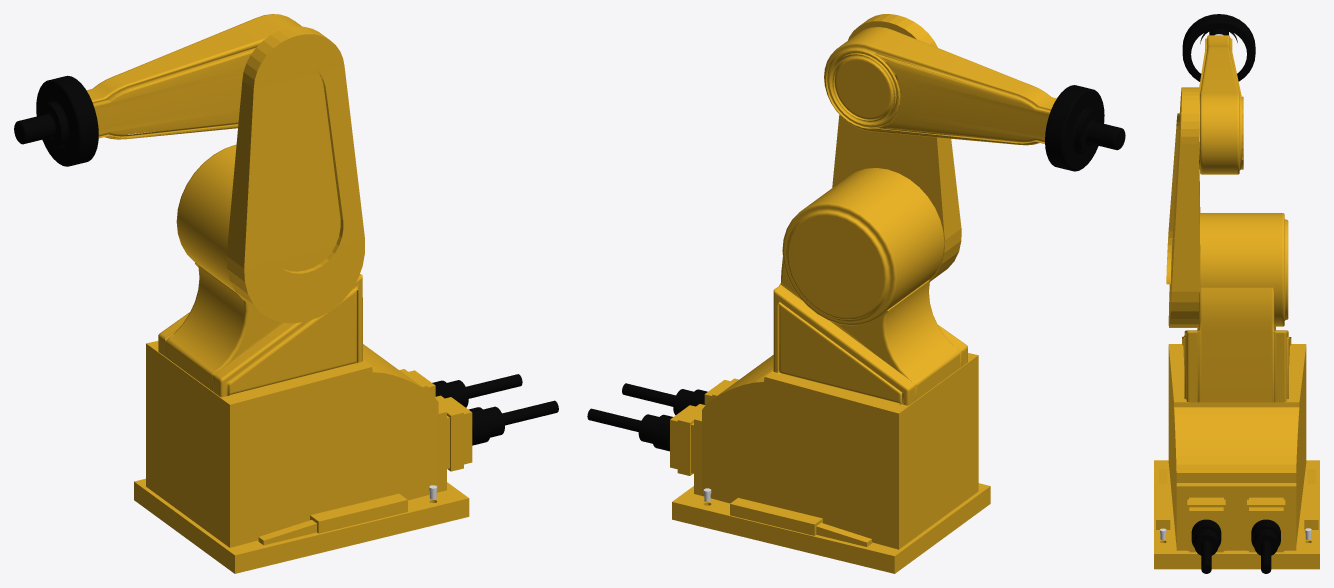
File: arm_v2.gltf
3 views of the same model, side by side, from view 1: azimuth 30°, elevation 25°; view 2: azimuth 150°, elevation 25°; view 3: azimuth 270°, elevation 25° (orthographic). The views are drawn at different scales.
Parts seen in each view (by area): view 1: base, Cube.001, base2, Untitled.001, Untitled, Cylinder, cable1, cable2; view 2: base, Untitled, Untitled.001, base2, Cube.001, Cylinder, cable2, cable1; view 3: base, base2, Untitled, Cube.001, Untitled.001, Cylinder, cable1, cable2.
Boxes of the visible parts, x1=… form: base: x1=134, y1=341, x2=472, y2=573; Cube.001: x1=226, y1=26, x2=364, y2=323; base2: x1=158, y1=262, x2=362, y2=397; Untitled.001: x1=86, y1=14, x2=301, y2=139; Untitled: x1=176, y1=144, x2=236, y2=290; Cylinder: x1=14, y1=75, x2=98, y2=166; cable1: x1=468, y1=400, x2=558, y2=445; cable2: x1=432, y1=374, x2=522, y2=407; base: x1=670, y1=353, x2=990, y2=573; Untitled: x1=782, y1=168, x2=944, y2=325; Untitled.001: x1=824, y1=27, x2=1056, y2=145; base2: x1=773, y1=257, x2=967, y2=405; Cube.001: x1=832, y1=14, x2=961, y2=282; Cylinder: x1=1045, y1=85, x2=1125, y2=171; cable2: x1=587, y1=408, x2=672, y2=451; cable1: x1=622, y1=383, x2=707, y2=415; base: x1=1154, y1=344, x2=1319, y2=569; base2: x1=1182, y1=287, x2=1291, y2=402; Untitled: x1=1200, y1=213, x2=1288, y2=326; Cube.001: x1=1166, y1=87, x2=1200, y2=327; Untitled.001: x1=1199, y1=35, x2=1243, y2=174; Cylinder: x1=1182, y1=14, x2=1255, y2=81; cable1: x1=1191, y1=519, x2=1221, y2=573; cable2: x1=1251, y1=519, x2=1280, y2=573.
Bounding box in the file's own units: 4.01 × 3.67 × 1.32.
